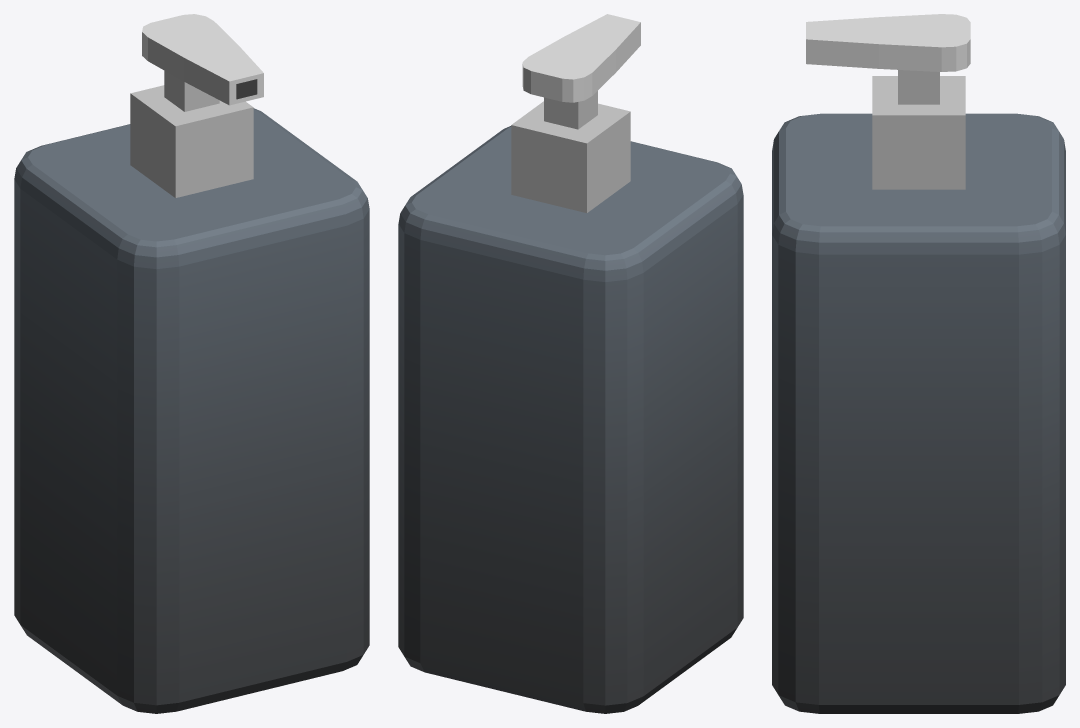
Rendered from BathroomProps_04.fbx.
The picture shows the model from 3 angles, left to right: view 1: azimuth 30°, elevation 25°; view 2: azimuth 150°, elevation 25°; view 3: azimuth 270°, elevation 25°; orthographic projection. The views are drawn at different scales.
Parts seen in each view (by area): view 1: BathroomProps_04; view 2: BathroomProps_04; view 3: BathroomProps_04.
Boxes of the visible parts, box(x1,y1,x2,y2) form: BathroomProps_04: box(14, 14, 369, 713); BathroomProps_04: box(398, 14, 743, 713); BathroomProps_04: box(772, 14, 1065, 713).
Size of the model in its own units: 7.04 by 16.51 by 7.04.
